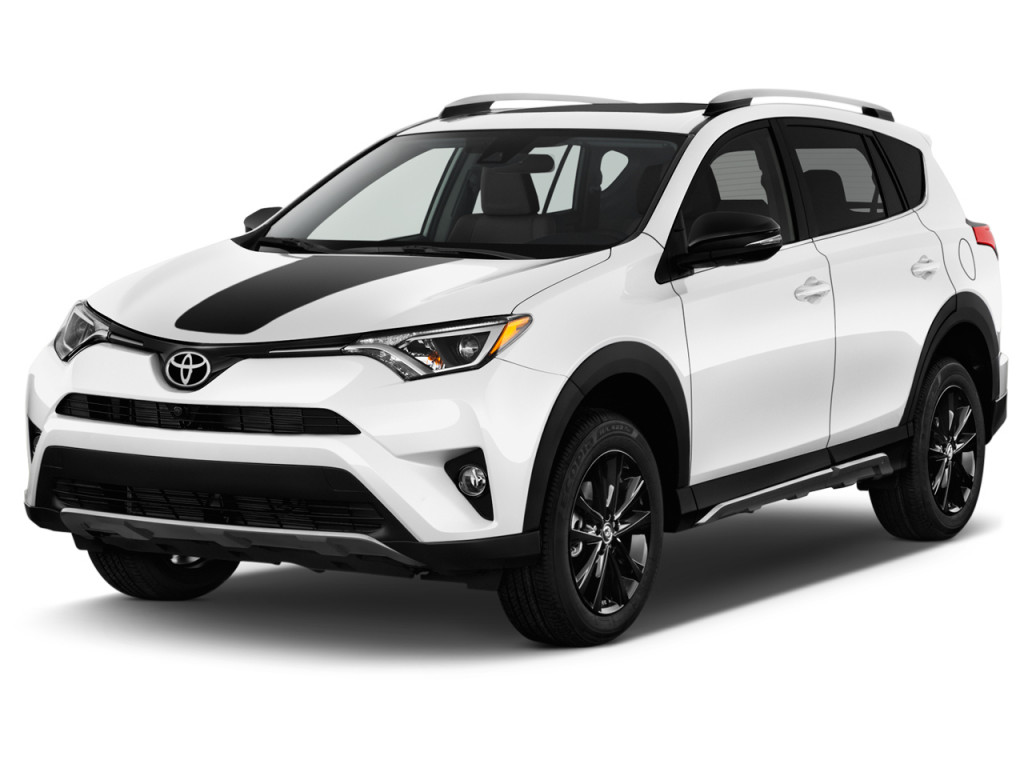Toyota RAV-4: (21, 101, 1012, 649)
